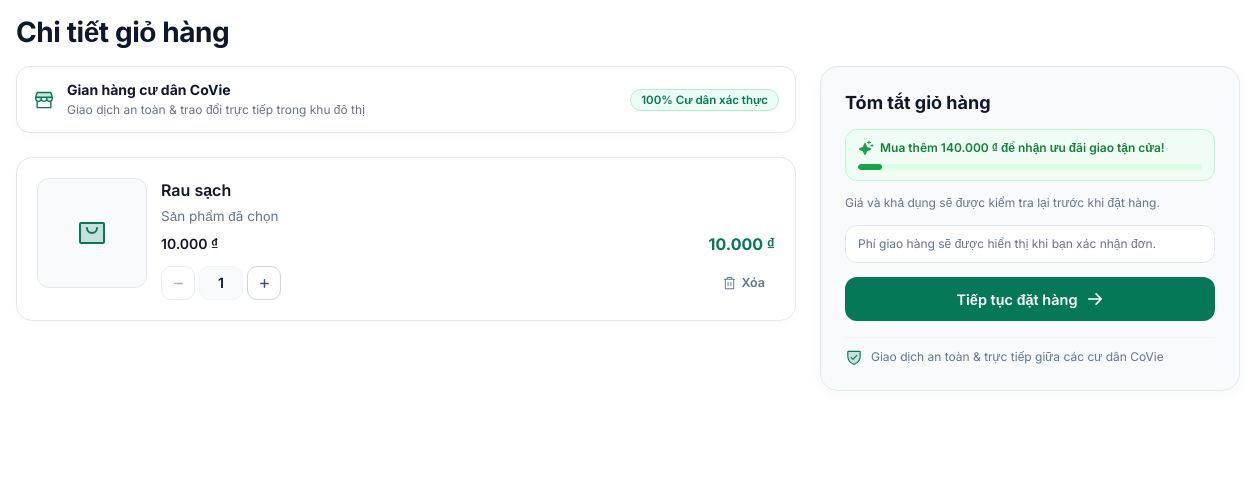
refetches the cart when a stale version rejects a quantity change
Click the button named "Tăng số lượng": (264, 283) left=247, top=266, right=281, bottom=300
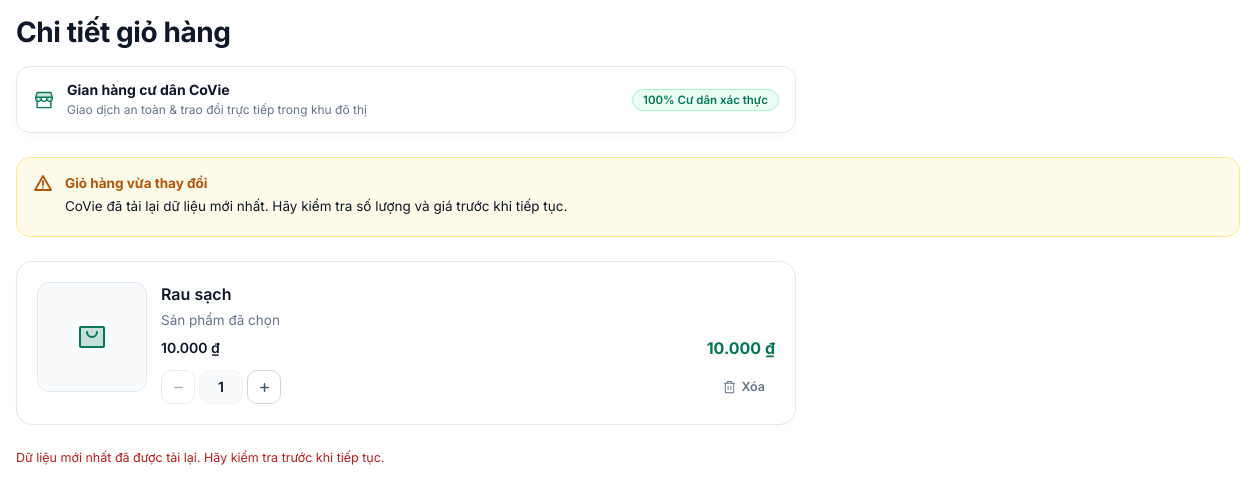
Check: the text named "Số lượng" reads "1", box left=218, top=378, right=224, bottom=395
Check: the text "Giỏ hàng vừa thay đổi" is shown, box left=65, top=175, right=207, bottom=191
Check: the text "CoVie đã tải lại dữ liệu mới nhất" is shown, box left=65, top=198, right=567, bottom=214
